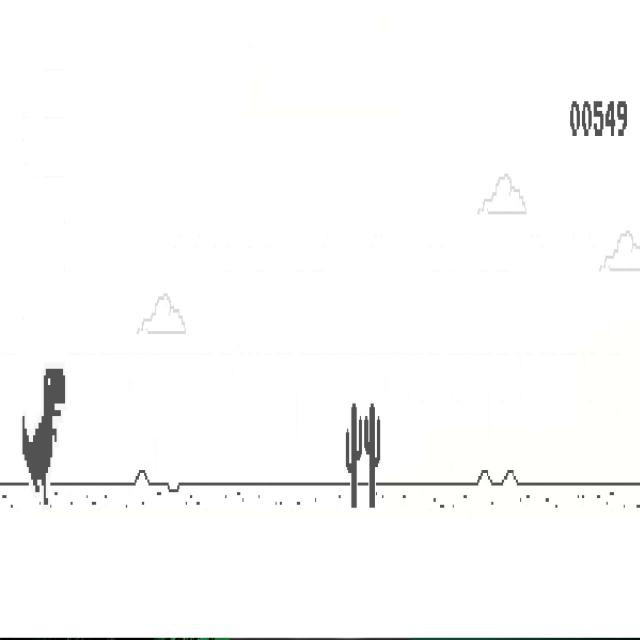cacto: (364, 402, 381, 509), (346, 402, 362, 508)
dino: (22, 368, 66, 506)
